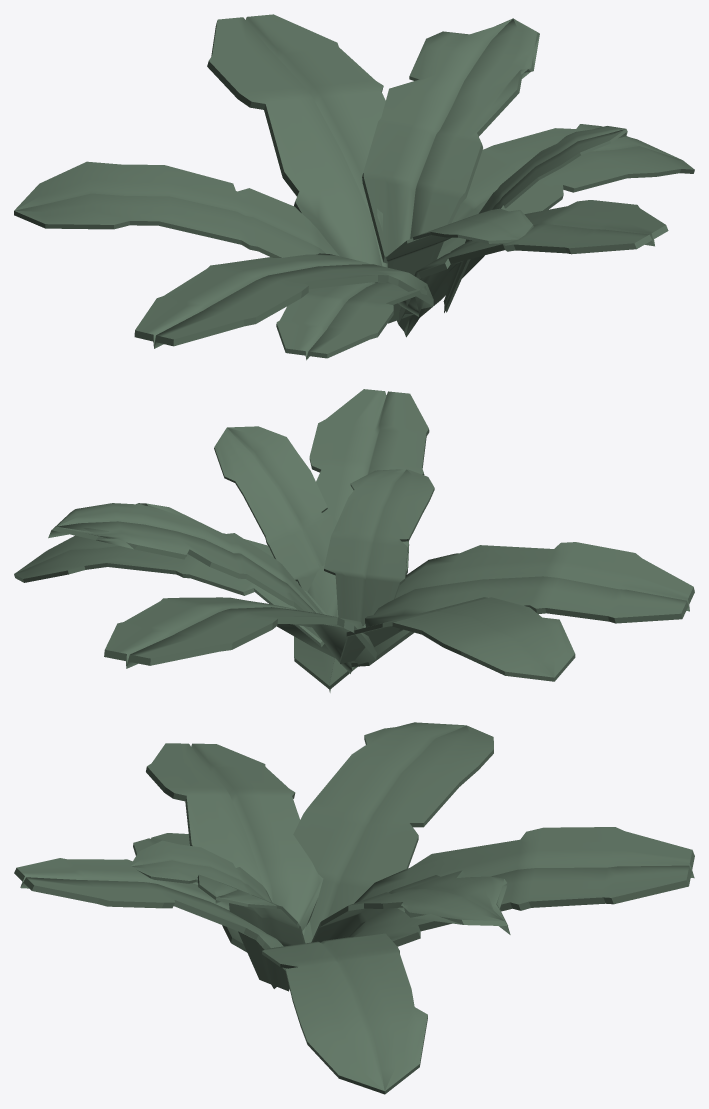
File: Plant 3.fbx
3 views of the same model, one above another, from view 1: azimuth 30°, elevation 25°; view 2: azimuth 150°, elevation 25°; view 3: azimuth 270°, elevation 25° (orthographic). The views are drawn at different scales.
Visible parts, largest first — view 1: Plant_3; view 2: Plant_3; view 3: Plant_3.
Part boxes in pixels (x1,y1,x2,y2): Plant_3: (14,14,694,360); Plant_3: (14,389,694,692); Plant_3: (14,722,694,1094).
Bounding box in the file's own units: 0.9896 × 0.311 × 0.9471.
